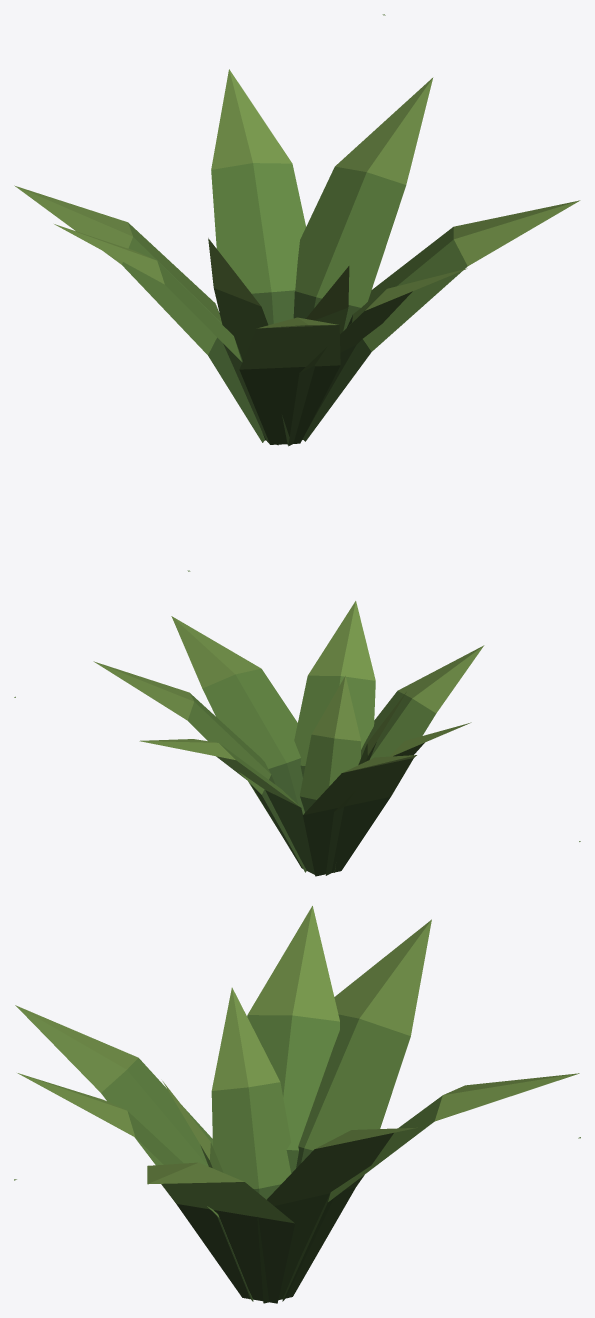
File: Fern2_lite_leaf.glb
3 renders of one model, top to bottom at view 1: azimuth 30°, elevation 25°; view 2: azimuth 150°, elevation 25°; view 3: azimuth 270°, elevation 25°, orthographic. The views are drawn at different scales.
Parts seen in each view (by area): view 1: Fern2_lite_leaf; view 2: Fern2_lite_leaf; view 3: Fern2_lite_leaf.
Part boxes in pixels (bbox=[...]): Fern2_lite_leaf: bbox=[14, 14, 580, 571]; Fern2_lite_leaf: bbox=[14, 601, 580, 876]; Fern2_lite_leaf: bbox=[14, 906, 580, 1303].
Bounding box in the file's own units: 3.18 × 1.73 × 3.13.
